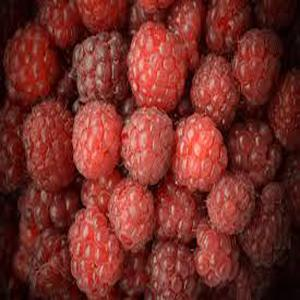raspb: (2, 1, 300, 300)
